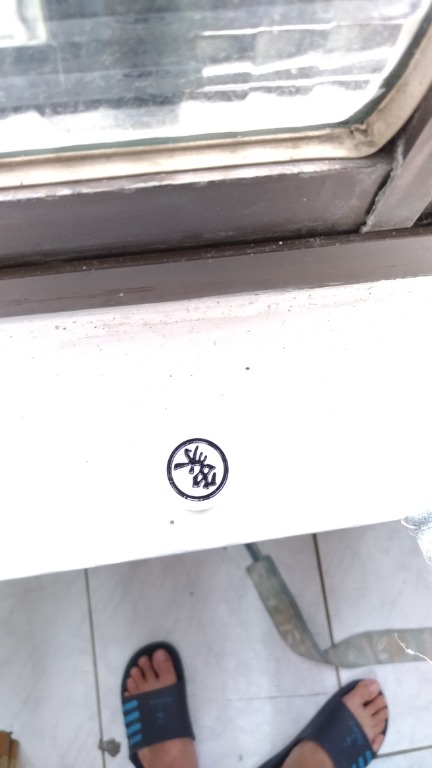b-elephant: (158, 421, 265, 515)
